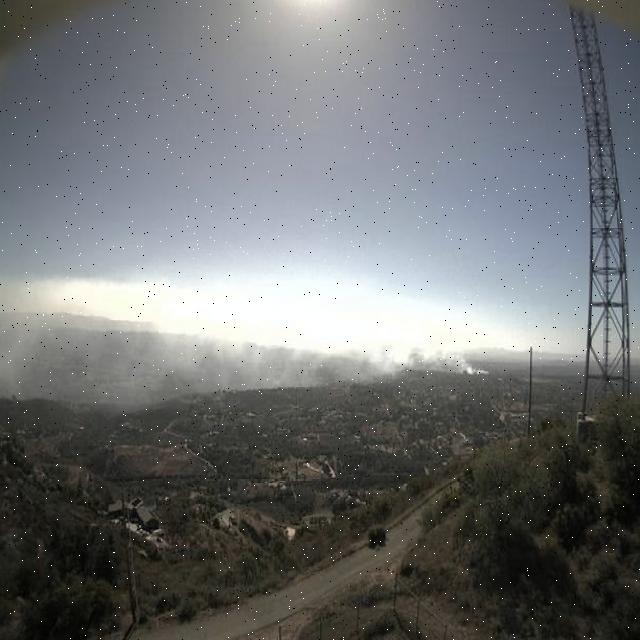smoke: (130, 320, 492, 392)
